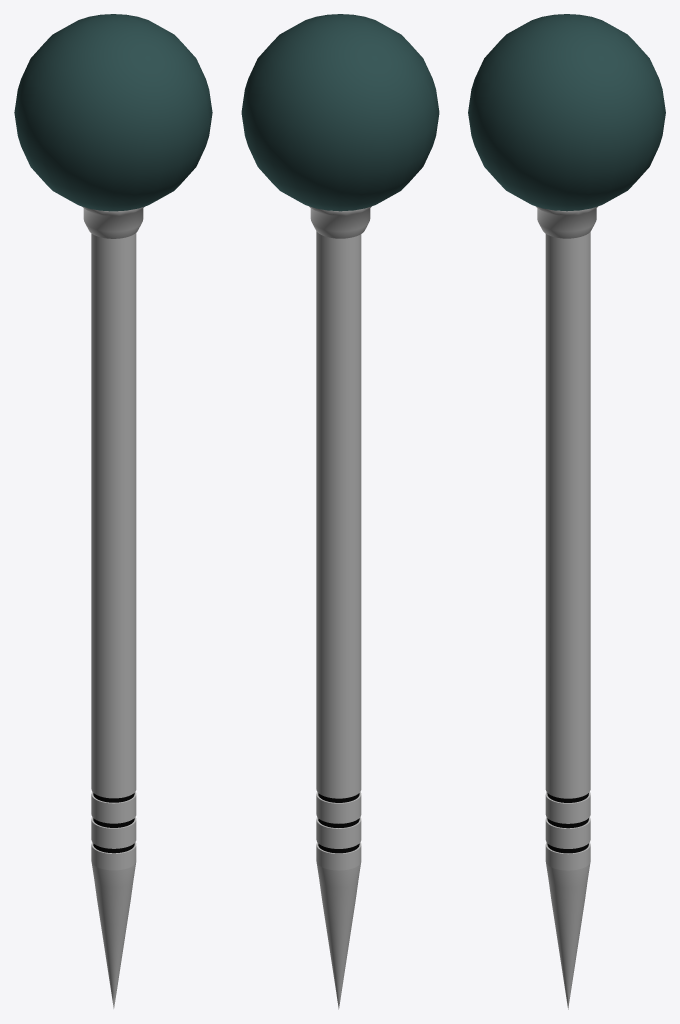
Rendered from DARKSLATEGRAY.glb.
3 renders of one model, left to right at view 1: azimuth 30°, elevation 25°; view 2: azimuth 150°, elevation 25°; view 3: azimuth 270°, elevation 25°, orthographic.
Parts seen in each view (by area): view 1: Needle, Sphere, Ball_Holder; view 2: Needle, Sphere, Ball_Holder; view 3: Needle, Sphere, Ball_Holder.
Part boxes in pixels (x1,y1,x2,y2): Needle: [91, 233, 136, 1008]; Sphere: [14, 14, 212, 211]; Ball_Holder: [82, 206, 144, 238]; Needle: [316, 231, 361, 1009]; Sphere: [241, 14, 439, 211]; Ball_Holder: [309, 206, 371, 238]; Needle: [545, 232, 590, 1009]; Sphere: [468, 14, 665, 211]; Ball_Holder: [536, 206, 597, 238].
Bounding box in the file's own units: 2.2 × 12.1 × 2.2.
